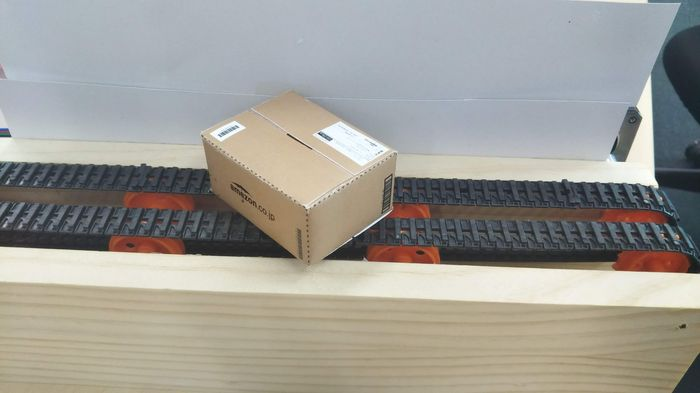box1: (196, 85, 400, 264)
